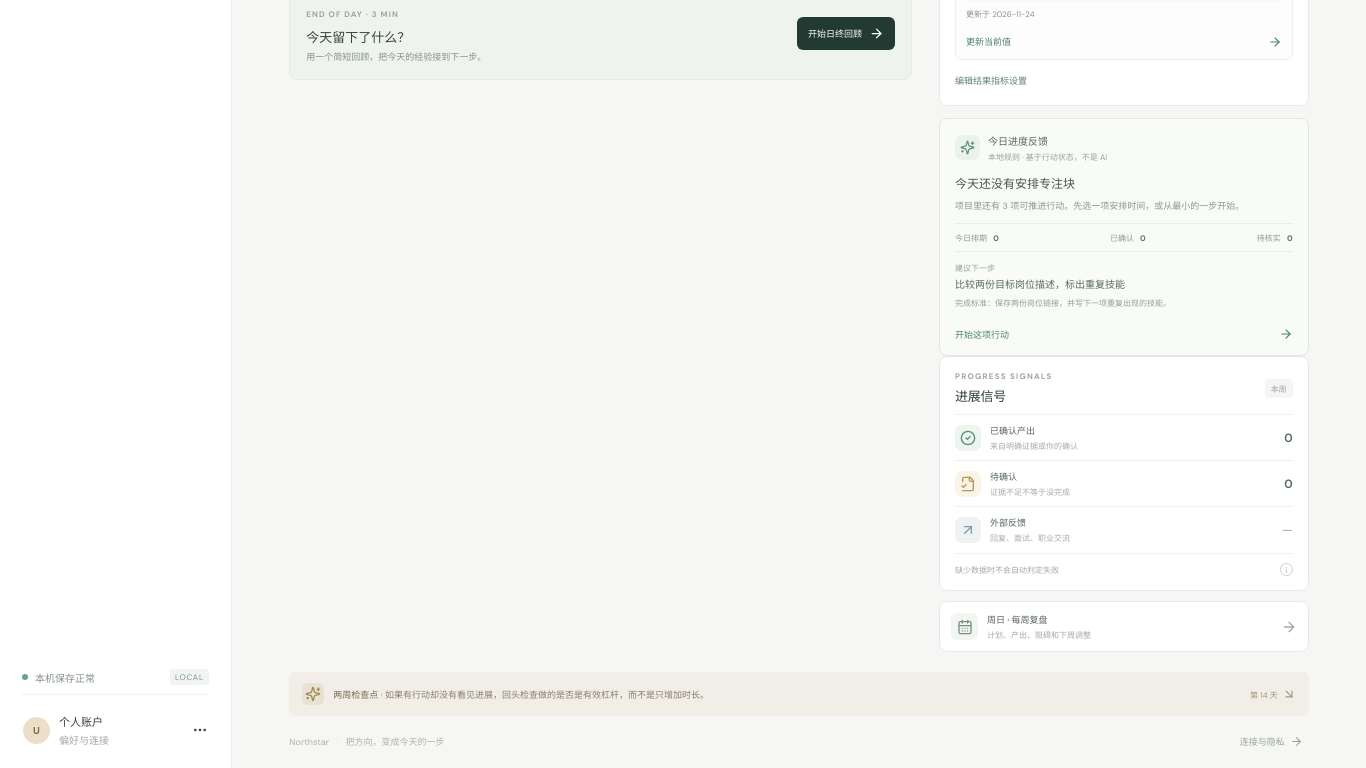
Test: Goal Monitor first-run flows › includes time-bounded outcome signal context in the weekly review without causal claims
(page scrolled)
Step 1. Click the button "周日 · 每周复盘 计划、产出、阻碍和下周调整" → [1017, 620], box top-left (939, 601), bottom-right (1309, 652)
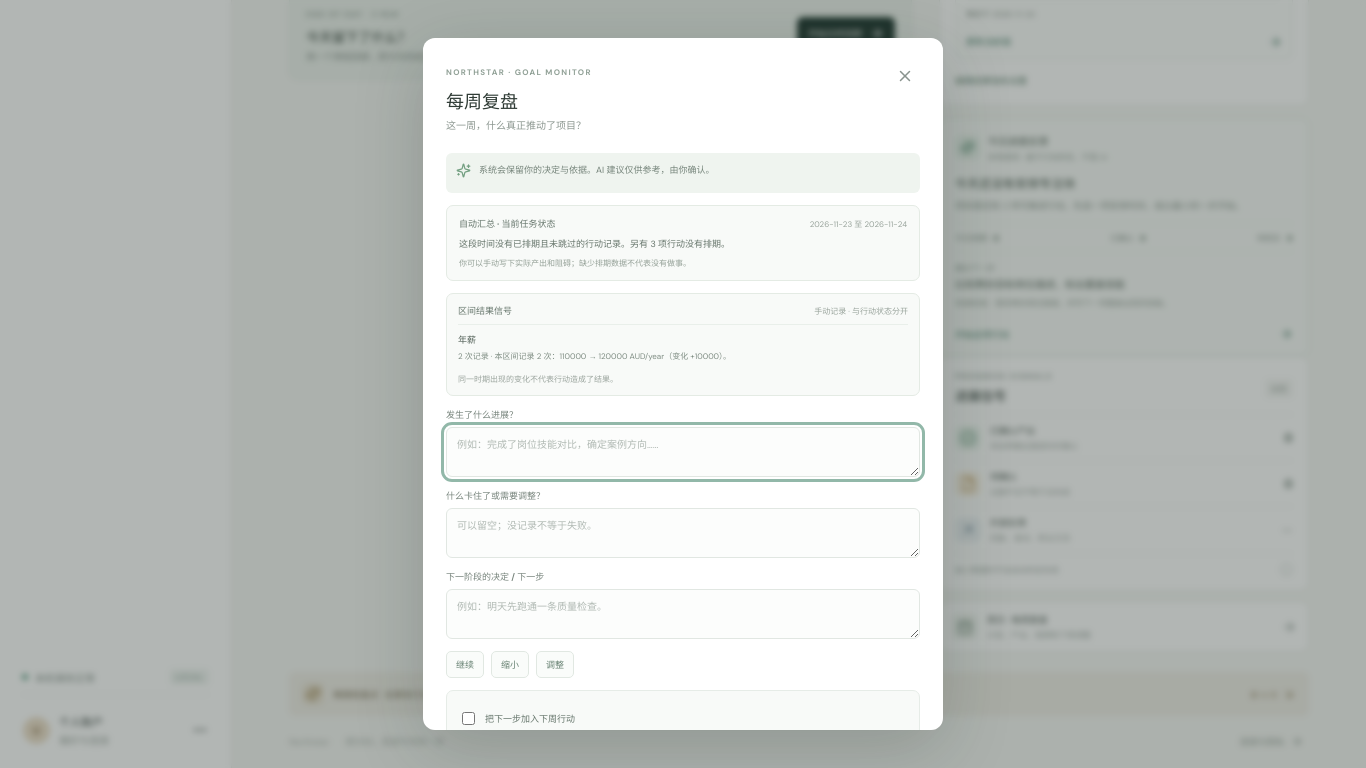
Expected: the element named "区间结果指标" is shown, top-left (446, 293), bottom-right (920, 396)
Expected: the text "2 次记录 · 本区间记录 2 次：110000 → 120000 AUD/year（变化 +10000）。" is shown, top-left (458, 351), bottom-right (731, 361)
Expected: the text "同一时期出现的变化不代表行动造成了结果。" is shown, top-left (458, 374), bottom-right (618, 384)
